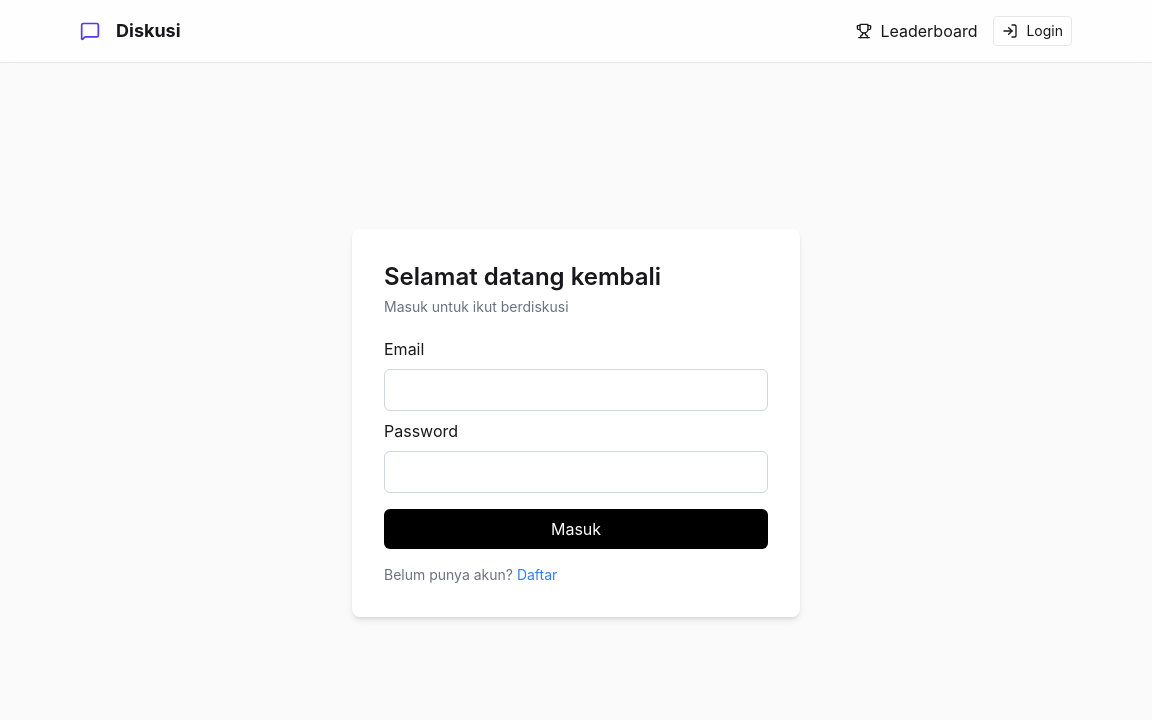
Test: Login spec › should display error toast if password is empty
This screenshot has width=1152, height=720.
In the field labelled "Email": (576, 390) 384,369 -> 768,411, type "email@mail.com"
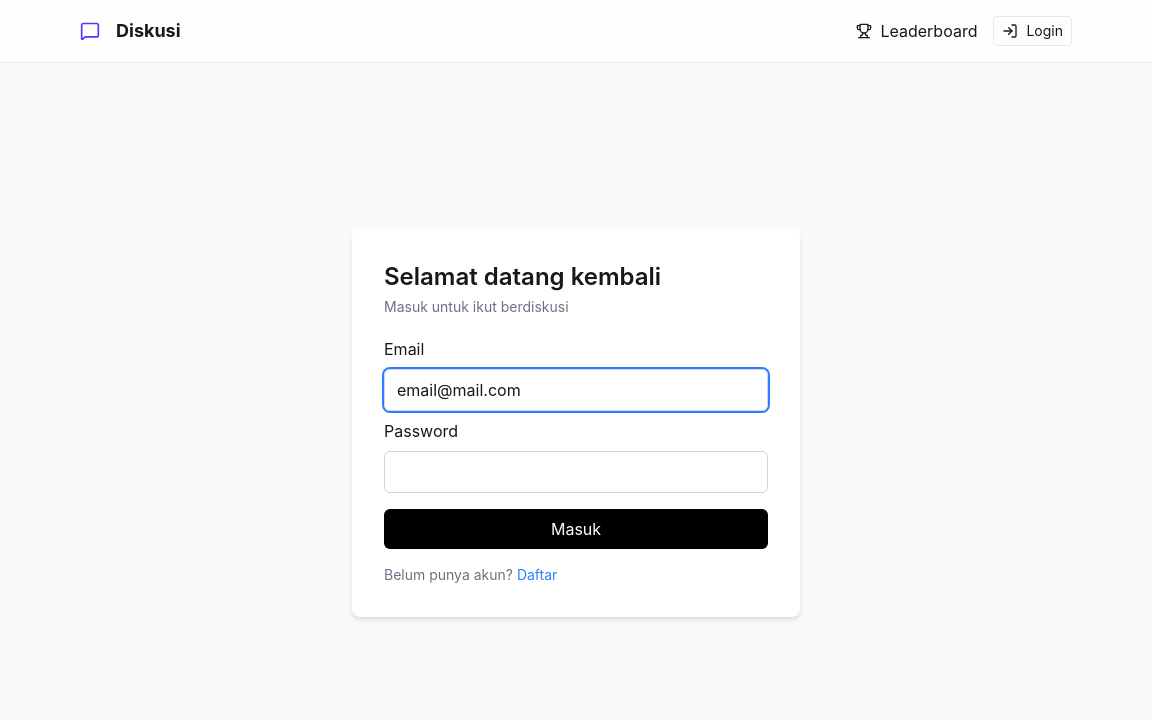
Click the submit button: (576, 529) 384,509 -> 768,549
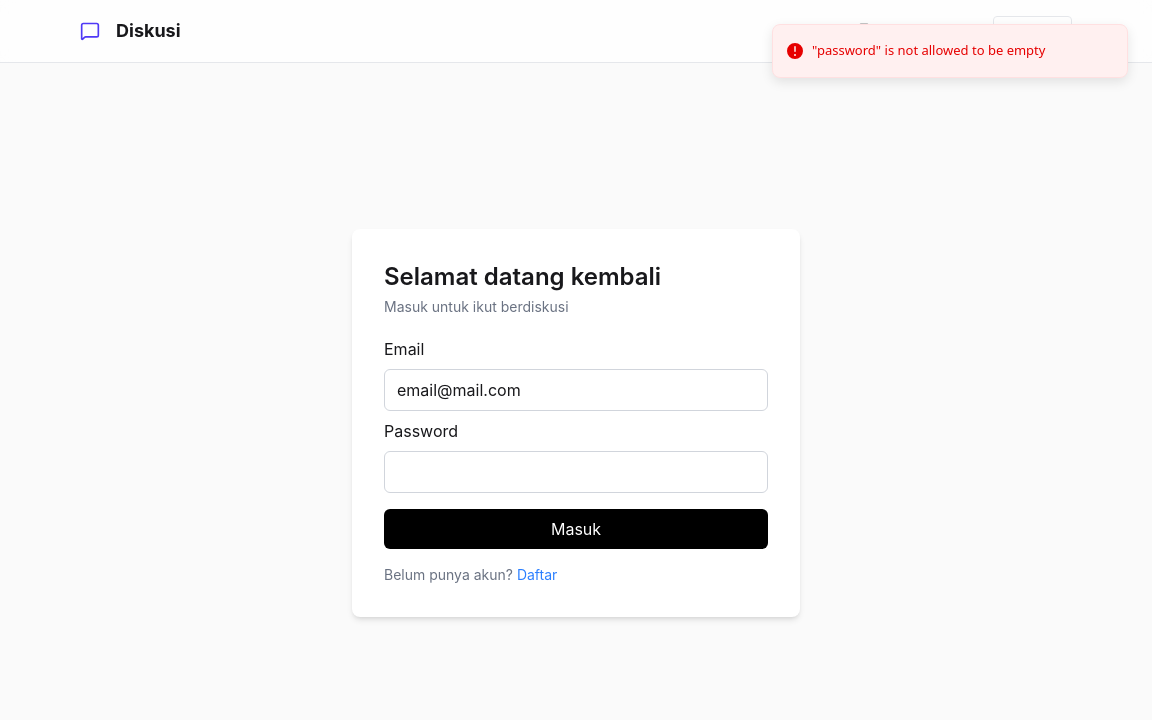
Result: the list item "\"password\" is not allowed to be empty" is shown at 772,24 -> 1128,78
Result: the text "\"password\" is not allowed to be empty" is shown at 812,41 -> 1046,60
